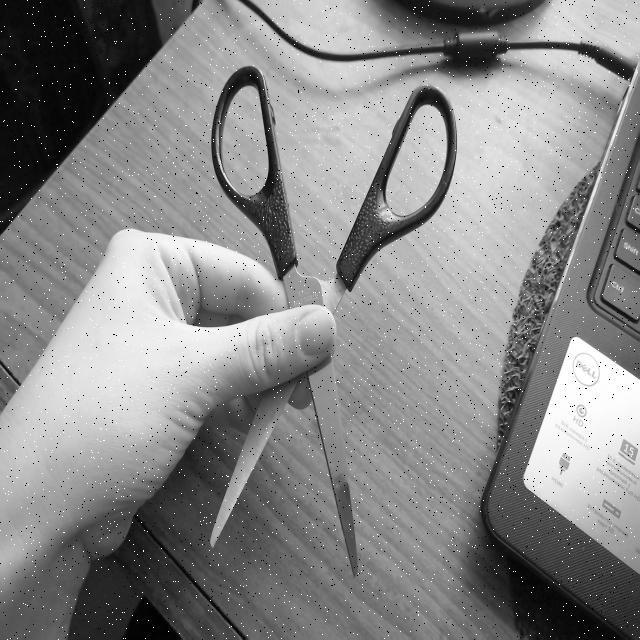scissors: (196, 60, 464, 596)
